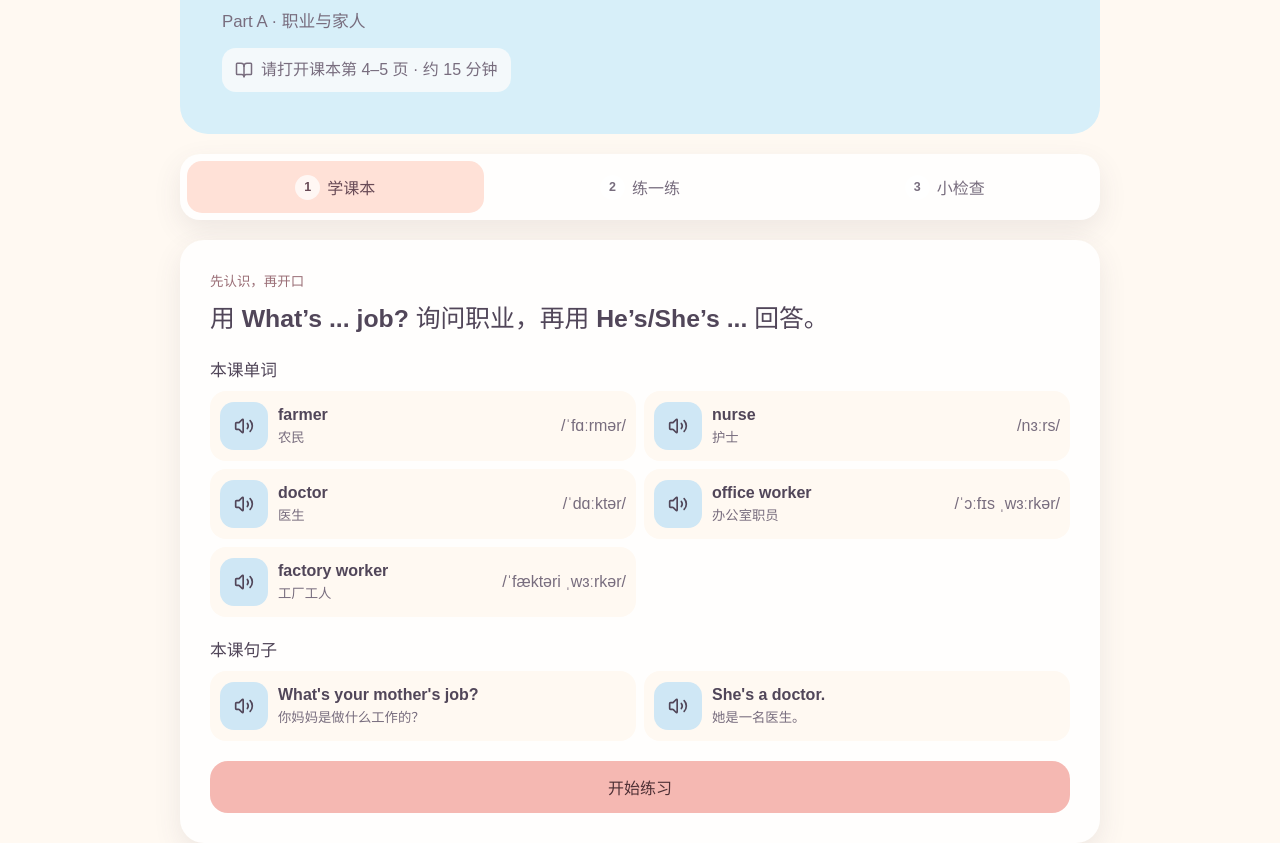
Test: SchoolLesson › moves through two practice questions before revealing the small check
(page scrolled)
Click the button "开始练习" at [640, 787], box [210,761,1070,813]
(page scrolled)
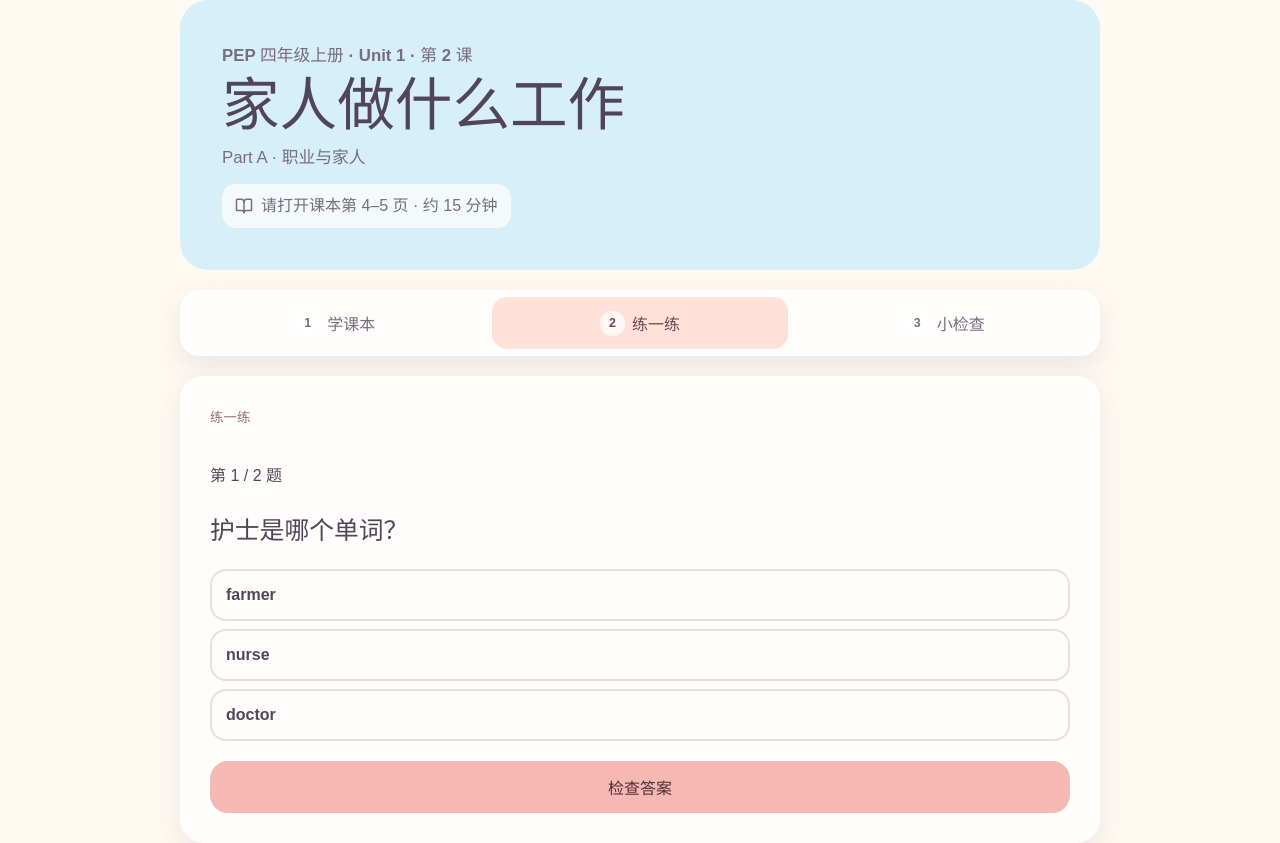
expect the text "第 1 / 2 题" is shown: met, box [210,467,282,484]
Click the button "nurse" at [248, 655], box [210,629,1070,681]
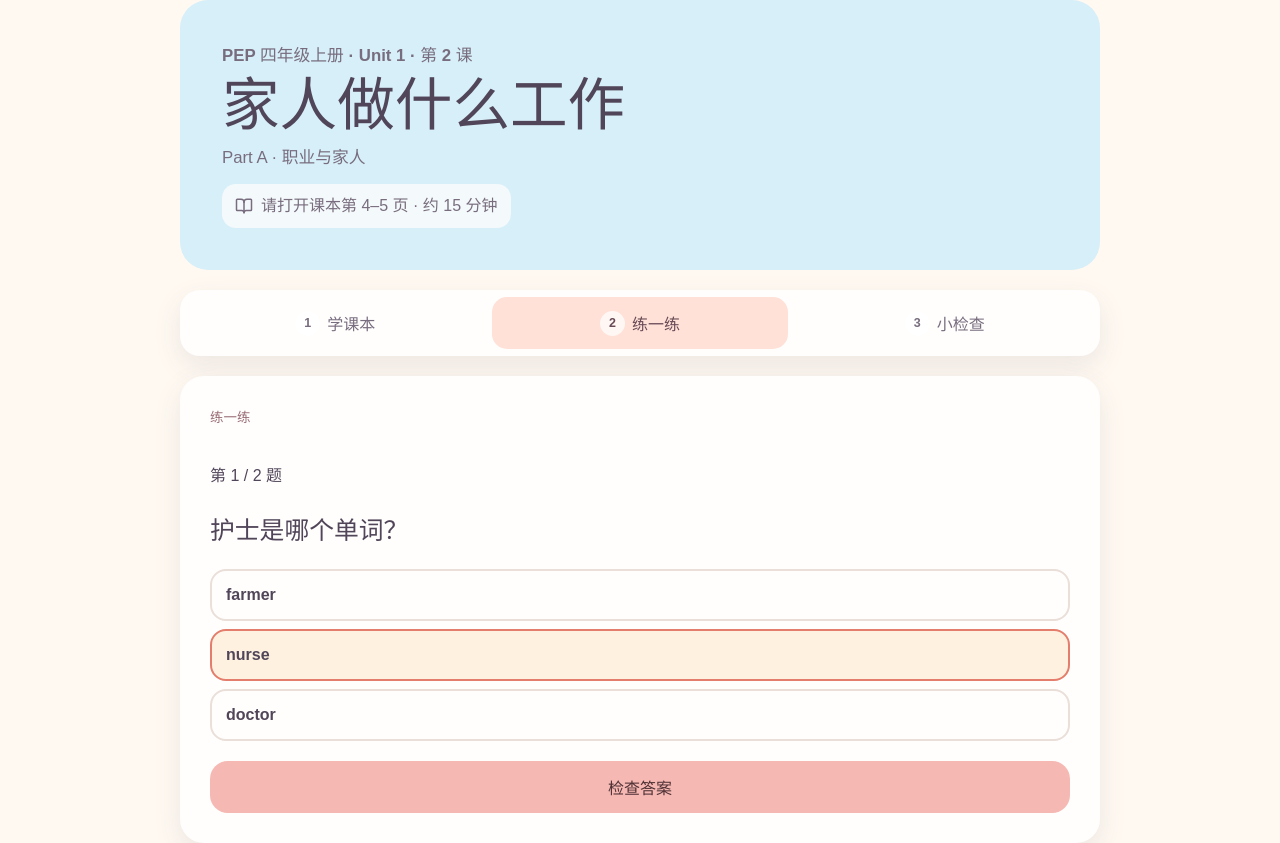
Click the button "检查答案" at [640, 787], box [210,761,1070,813]
(page scrolled)
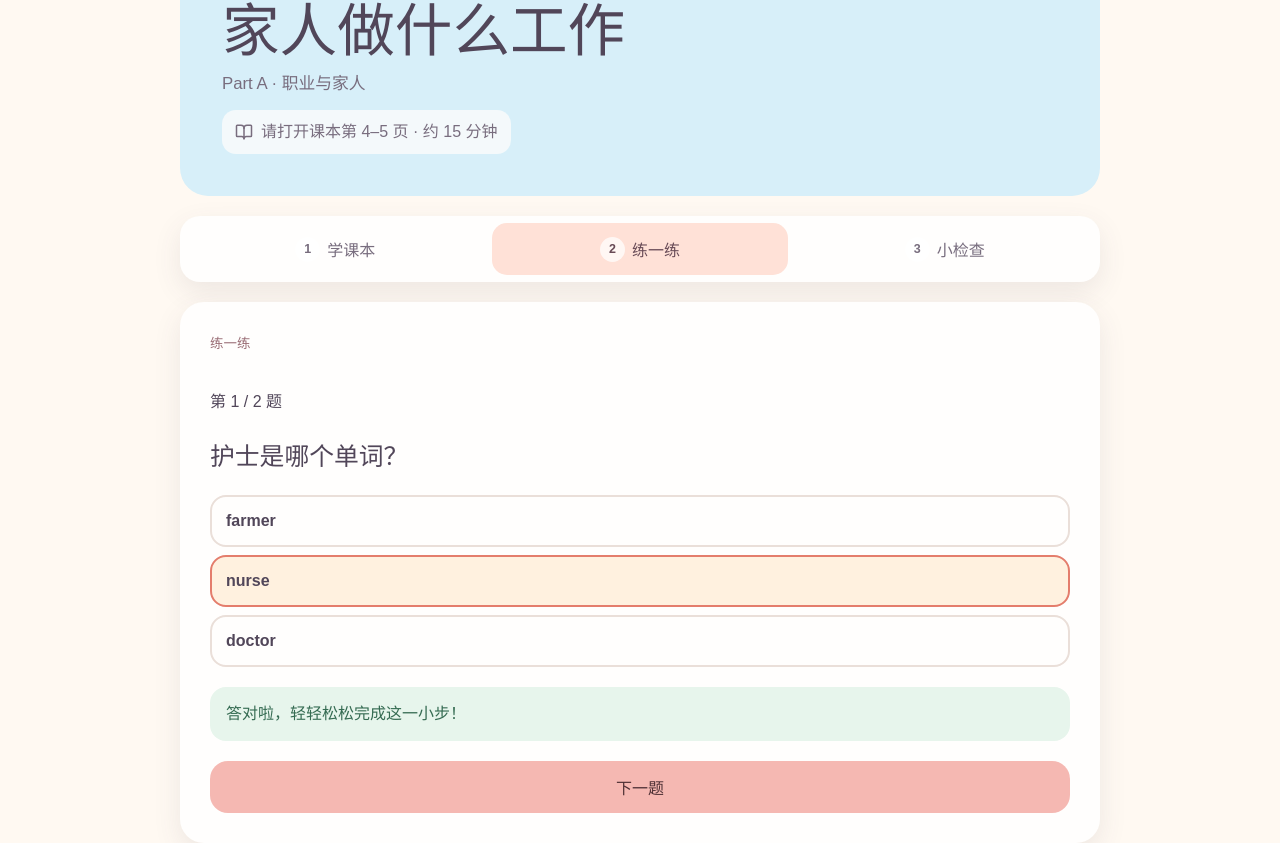
Click the button "下一题" at [640, 787], box [210,761,1070,813]
(page scrolled)
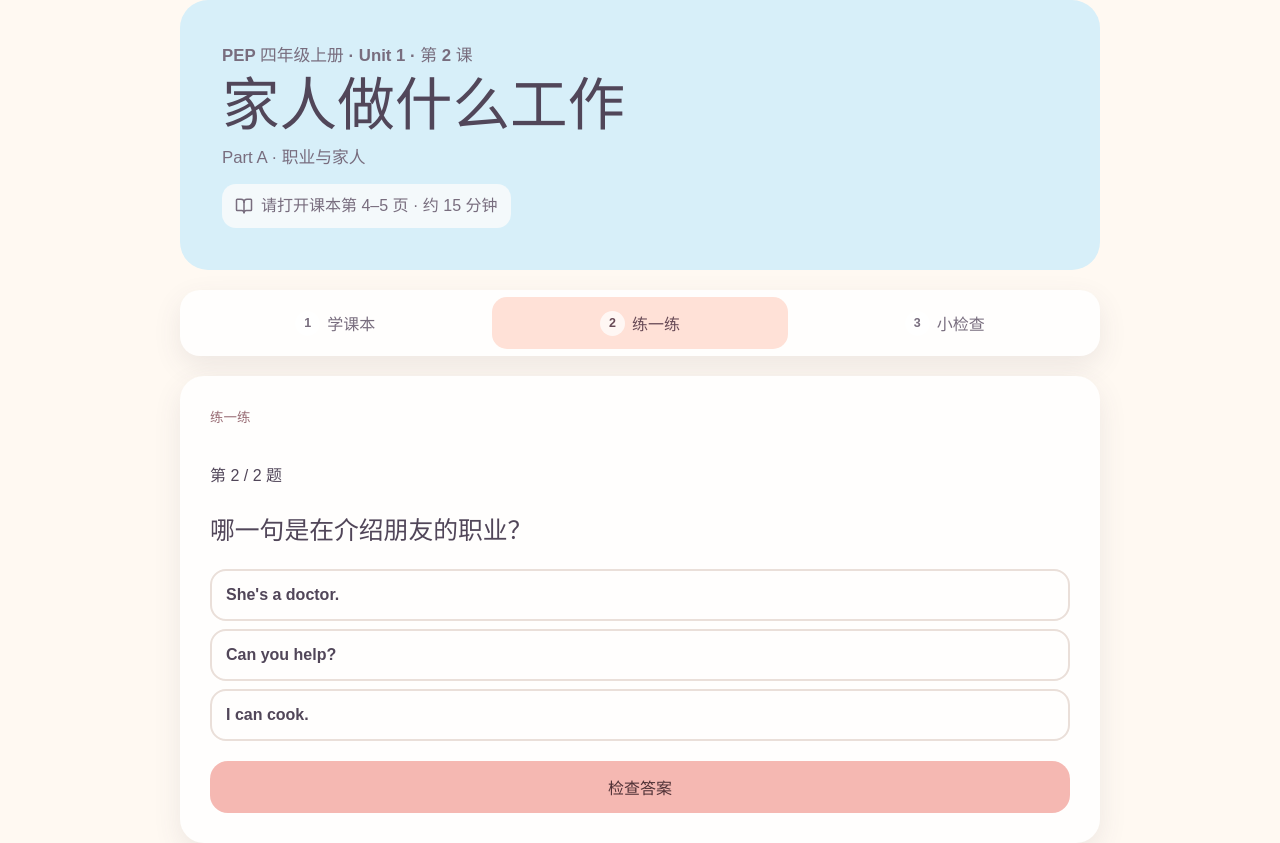
expect the text "第 2 / 2 题" is shown: met, box [210,467,282,484]
expect the heading "哪一句是在介绍朋友的职业？" is shown: met, box [210,517,532,544]
